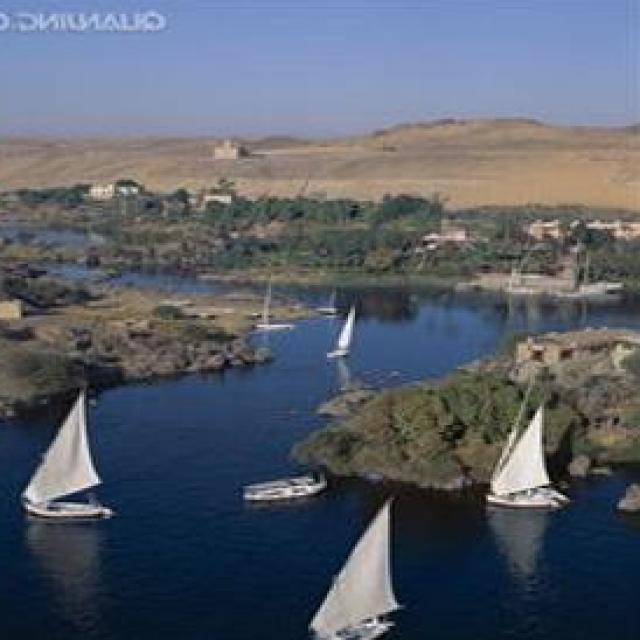sailboat: (15, 380, 116, 528), (308, 486, 399, 640), (487, 385, 566, 510), (323, 302, 368, 362)
